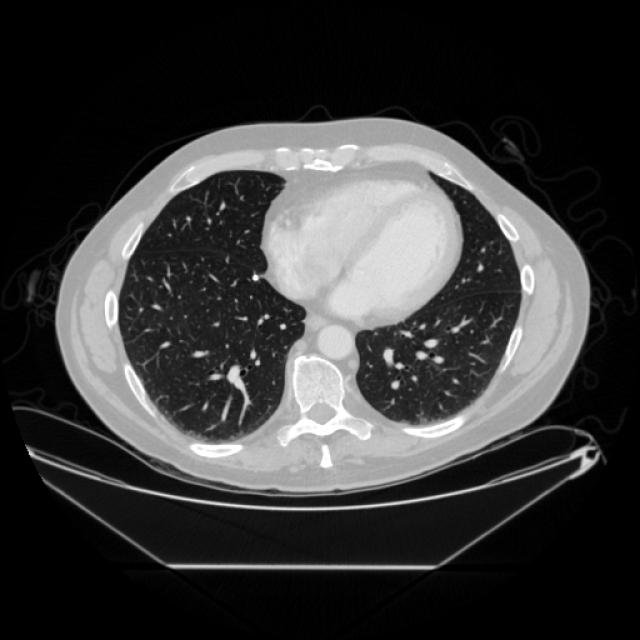nodule: (245, 267, 263, 285)
